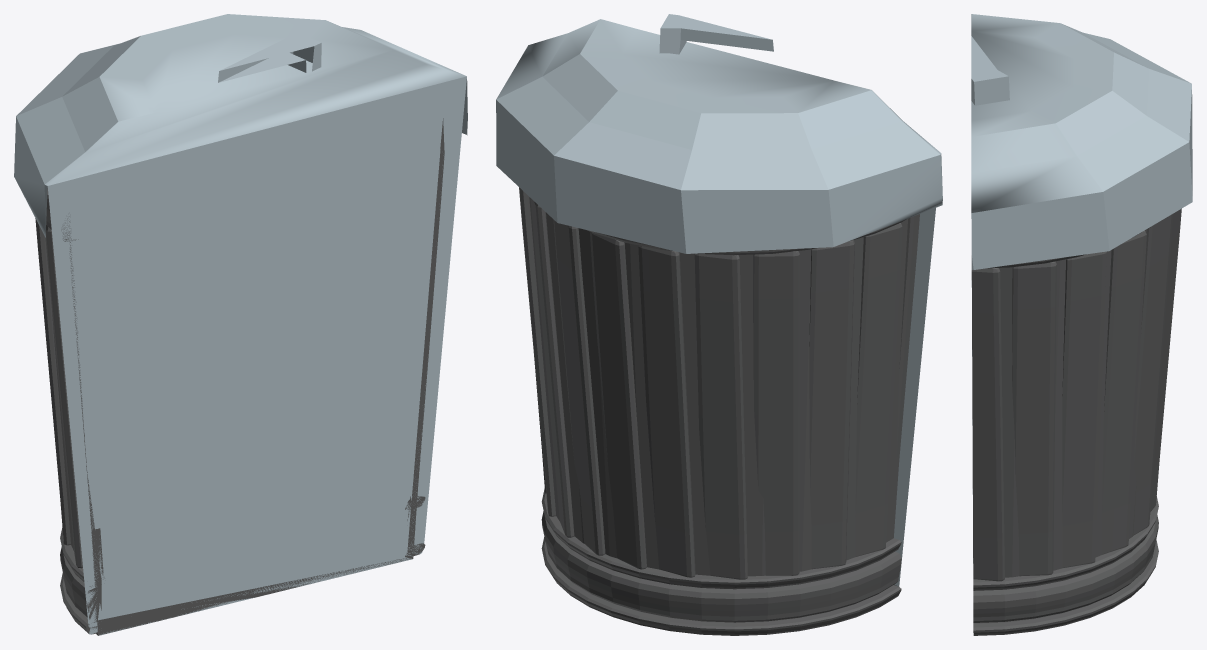
File: trash can canoe.fbx
The picture shows the model from 3 angles, left to right: view 1: azimuth 30°, elevation 25°; view 2: azimuth 150°, elevation 25°; view 3: azimuth 270°, elevation 25°; orthographic projection. The views are drawn at different scales.
Parts seen in each view (by area): view 1: group823671443; view 2: group823671443; view 3: group823671443.
Part boxes in pixels (x1,y1,x2,y2): group823671443: [14, 14, 467, 635]; group823671443: [496, 14, 942, 635]; group823671443: [971, 14, 1192, 635].
Size of the model in its own units: 145 by 177 by 69.29.
